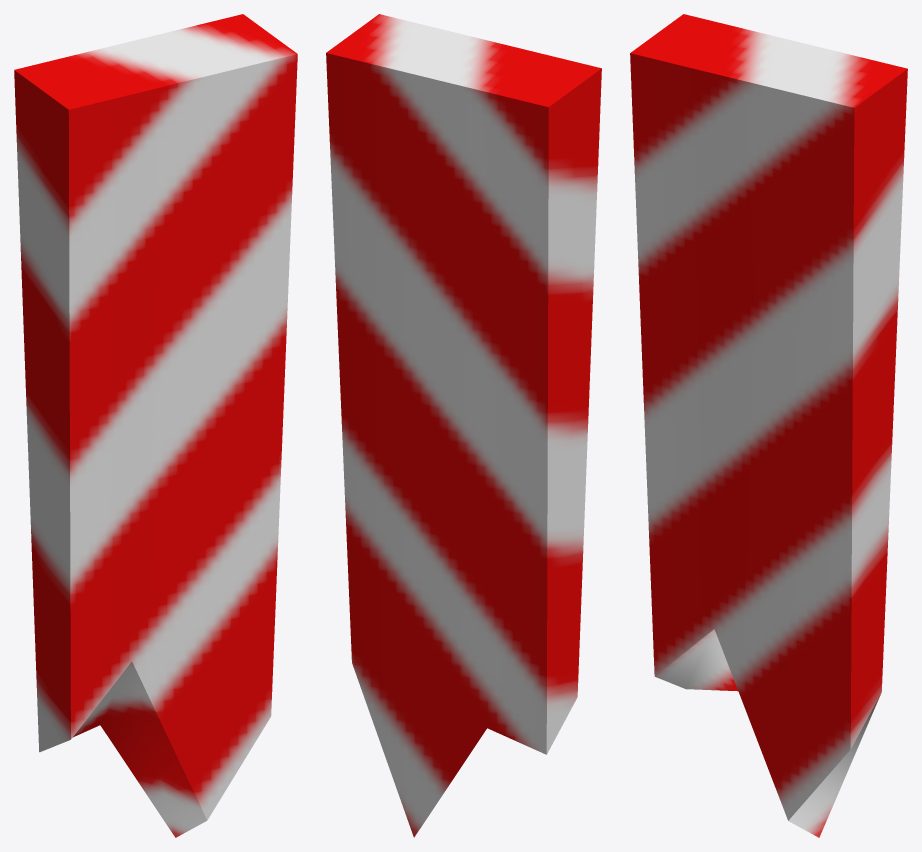
The model's file is SM_BreackBeam.fbx.
3 views of the same model, side by side, from view 1: azimuth 30°, elevation 25°; view 2: azimuth 150°, elevation 25°; view 3: azimuth 330°, elevation 25° (orthographic). The views are drawn at different scales.
Visible parts, largest first — view 1: SM_BreackBeam; view 2: SM_BreackBeam; view 3: SM_BreackBeam.
Boxes of the visible parts, left/top/right/bottom form: SM_BreackBeam: left=14, top=14, right=297, bottom=837; SM_BreackBeam: left=326, top=14, right=601, bottom=837; SM_BreackBeam: left=630, top=14, right=907, bottom=837.
Size of the model in its own units: 1 by 3.32 by 0.4133.
